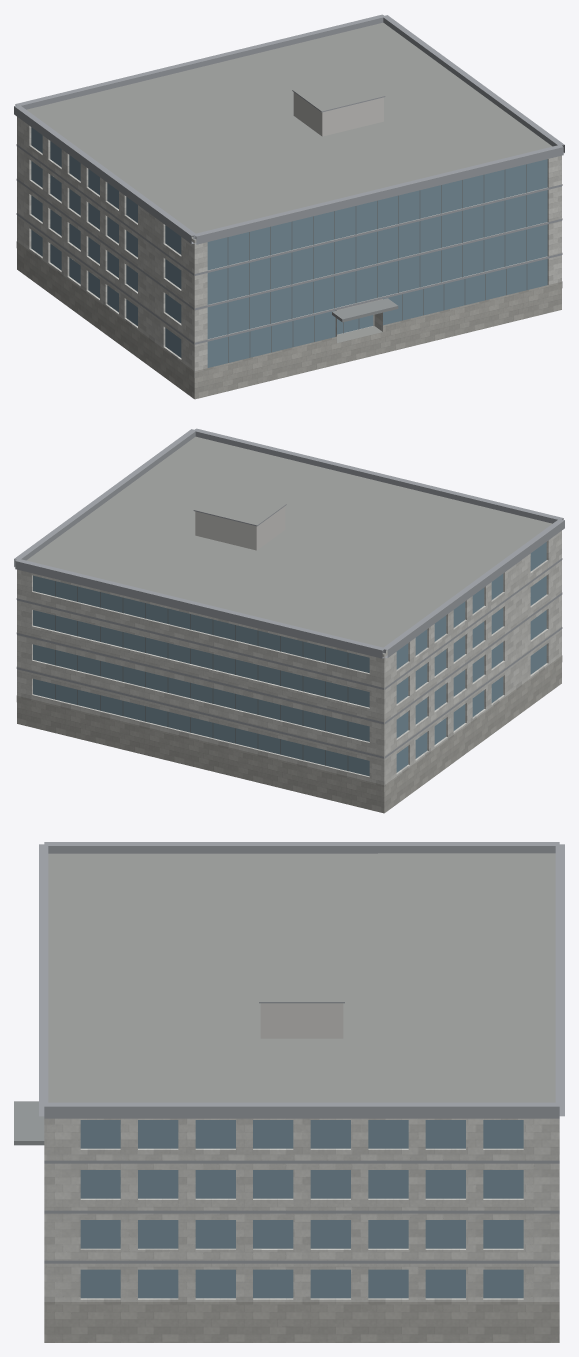
3 renders of one model, top to bottom at view 1: azimuth 30°, elevation 25°; view 2: azimuth 150°, elevation 25°; view 3: azimuth 270°, elevation 25°, orthographic. The views are drawn at different scales.
Visible parts, largest first — view 1: bioModelParkE18_1__roof, bioModelParkE18_1__glass, bioModelParkE18_1__wall, bioModelParkE18_1__trim, bioModelParkE18_1__base, bioModelParkE18_1__frame, bioModelParkE18_1__wall2, bioModelParkE18_1__canopy; view 2: bioModelParkE18_1__roof, bioModelParkE18_1__wall, bioModelParkE18_1__glass, bioModelParkE18_1__trim, bioModelParkE18_1__base, bioModelParkE18_1__wall2, bioModelParkE18_1__frame; view 3: bioModelParkE18_1__roof, bioModelParkE18_1__wall, bioModelParkE18_1__glass, bioModelParkE18_1__trim, bioModelParkE18_1__base, bioModelParkE18_1__wall2, bioModelParkE18_1__canopy.
Part boxes in pixels (x1,y1,x2,y2): bioModelParkE18_1__roof: (26,22,552,342); bioModelParkE18_1__glass: (31,127,547,367); bioModelParkE18_1__wall: (17,117,561,377); bioModelParkE18_1__trim: (14,14,564,344); bioModelParkE18_1__base: (16,241,562,399); bioModelParkE18_1__frame: (227,164,527,362); bioModelParkE18_1__wall2: (293,92,383,136); bioModelParkE18_1__canopy: (332,298,398,322); bioModelParkE18_1__roof: (26,436,552,654); bioModelParkE18_1__wall: (17,531,561,791); bioModelParkE18_1__glass: (33,542,546,776); bioModelParkE18_1__trim: (14,428,564,758); bioModelParkE18_1__base: (16,655,562,813); bioModelParkE18_1__wall2: (195,506,285,550); bioModelParkE18_1__frame: (55,581,348,770); bioModelParkE18_1__roof: (48,853,555,1249); bioModelParkE18_1__wall: (44,1118,559,1301); bioModelParkE18_1__glass: (80,1120,523,1298); bioModelParkE18_1__trim: (39,842,564,1263); bioModelParkE18_1__base: (44,1302,559,1342); bioModelParkE18_1__wall2: (260,1003,343,1038); bioModelParkE18_1__canopy: (14,1101,44,1145).
Bounding box in the file's own units: 45.48 × 21.5 × 40.
Materials: 9 (2 with a texture image).
